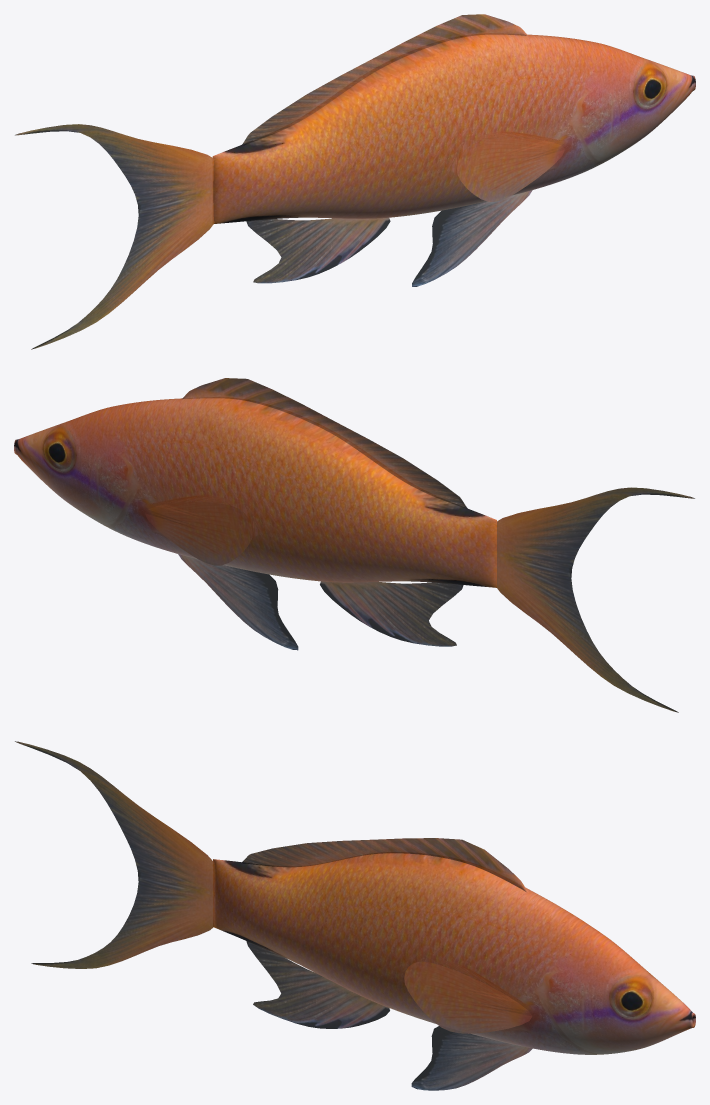
The model's file is anthias-qh5-fys7.glb.
3 renders of one model, top to bottom at view 1: azimuth 30°, elevation 25°; view 2: azimuth 150°, elevation 25°; view 3: azimuth 330°, elevation 25°, orthographic.
Visible parts, largest first — view 1: anthias__body, anthias__fin_0, anthias__fin_2, anthias__fin_1, anthias__pectoral_1, anthias__fin_3, anthias__gill_1, anthias__eye_1; view 2: anthias__body, anthias__fin_0, anthias__fin_2, anthias__fin_1, anthias__pectoral_-1, anthias__fin_3, anthias__gill_-1, anthias__eye_-1; view 3: anthias__body, anthias__fin_0, anthias__pectoral_1, anthias__fin_2, anthias__fin_1, anthias__fin_3, anthias__gill_1, anthias__eye_1.
Part boxes in pixels (x1,y1,x2,y2): anthias__body: [212, 34, 695, 223]; anthias__fin_0: [15, 124, 214, 349]; anthias__fin_2: [246, 217, 390, 283]; anthias__fin_1: [241, 14, 528, 146]; anthias__pectoral_1: [457, 138, 564, 201]; anthias__fin_3: [412, 190, 532, 286]; anthias__gill_1: [562, 80, 613, 176]; anthias__eye_1: [639, 70, 664, 105]; anthias__body: [14, 398, 496, 587]; anthias__fin_0: [497, 487, 694, 712]; anthias__fin_2: [320, 581, 463, 646]; anthias__fin_1: [182, 378, 467, 508]; anthias__pectoral_-1: [145, 502, 252, 565]; anthias__fin_3: [178, 554, 298, 650]; anthias__gill_-1: [96, 444, 146, 539]; anthias__eye_-1: [45, 433, 70, 468]; anthias__body: [213, 853, 695, 1054]; anthias__fin_0: [15, 741, 214, 968]; anthias__pectoral_1: [404, 961, 532, 1033]; anthias__fin_2: [246, 941, 389, 1028]; anthias__fin_1: [241, 838, 528, 892]; anthias__fin_3: [411, 1026, 532, 1090]; anthias__gill_1: [537, 959, 584, 1051]; anthias__eye_1: [615, 983, 648, 1016].
Bounding box in the file's own units: 1.42 × 0.5195 × 0.1916.
5 materials, 5 textured.
